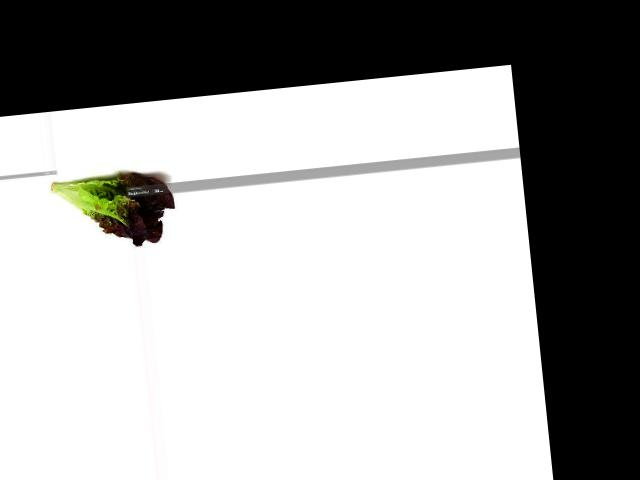lettuce: (44, 162, 180, 255)
